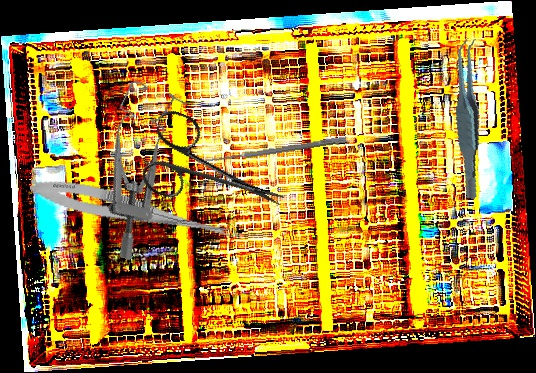Iris Scissors: (134, 107, 299, 238)
Micro Scissor: (27, 172, 239, 246)
Speculum: (63, 77, 202, 262)
Surgical Spoon: (198, 135, 347, 166)
Tissue Forceps: (430, 36, 507, 200)
